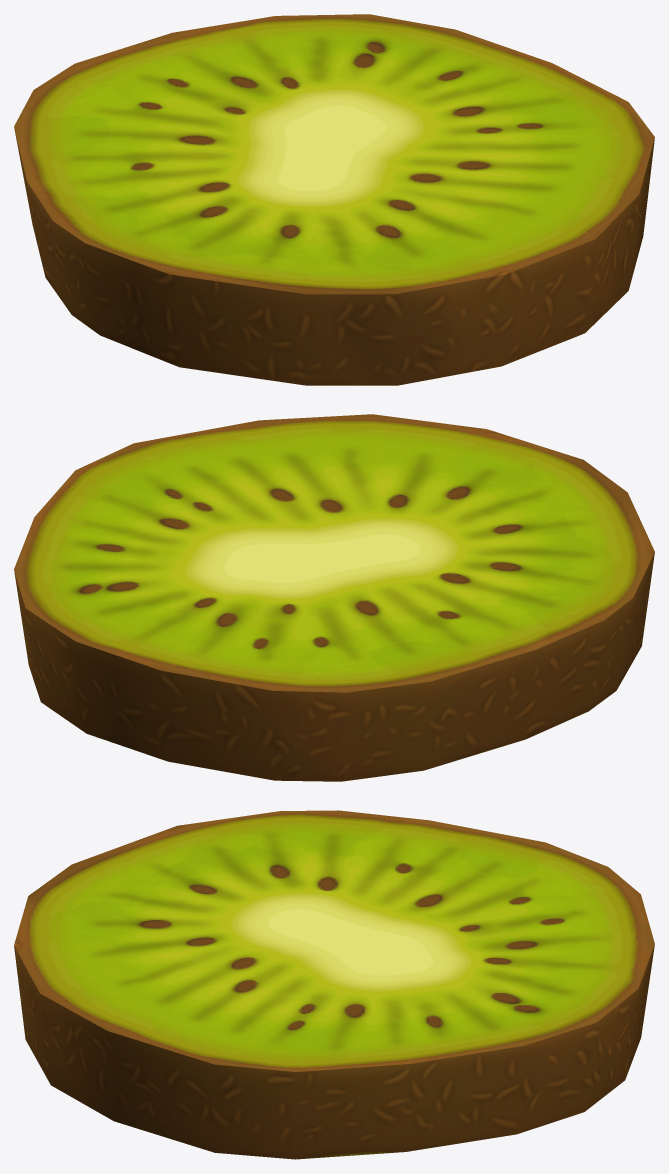
File: SM_KiwiCut.fbx
3 views of the same model, one above another, from view 1: azimuth 30°, elevation 25°; view 2: azimuth 150°, elevation 25°; view 3: azimuth 270°, elevation 25° (orthographic). The views are drawn at different scales.
Visible parts, largest first — view 1: SM_KiwiCut; view 2: SM_KiwiCut; view 3: SM_KiwiCut.
Part boxes in pixels (x1,y1,x2,y2): SM_KiwiCut: (14, 14, 654, 385); SM_KiwiCut: (14, 414, 654, 781); SM_KiwiCut: (14, 810, 654, 1159).
Bounding box in the file's own units: 9.24 × 1.54 × 9.57.
